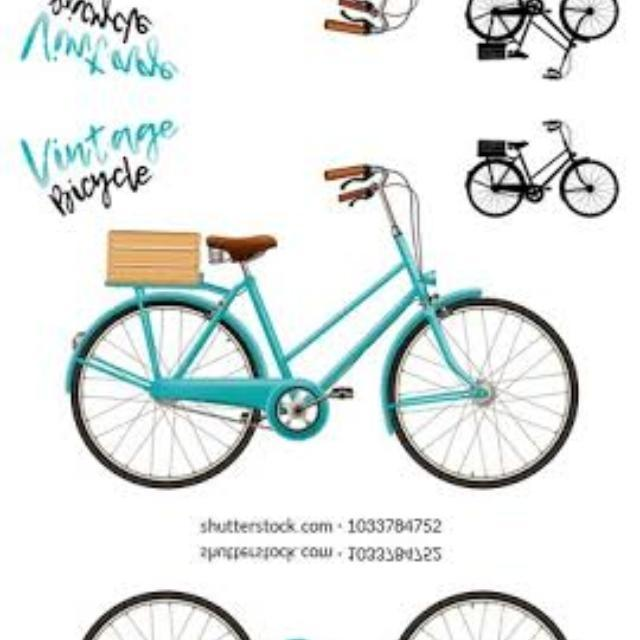obstacle: (61, 148, 601, 509), (61, 571, 592, 640), (452, 105, 629, 232), (452, 0, 629, 93), (199, 0, 424, 50)
